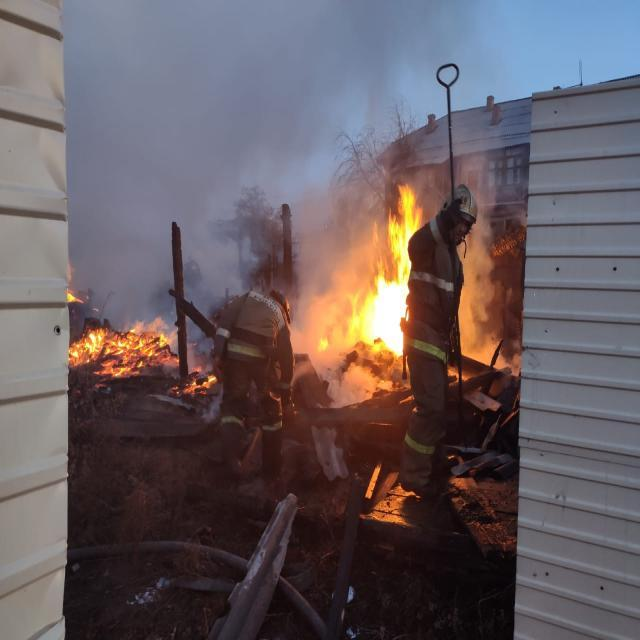Fire: (344, 182, 424, 357), (68, 315, 176, 378), (176, 370, 217, 398)
Smoke: (66, 0, 516, 405)
